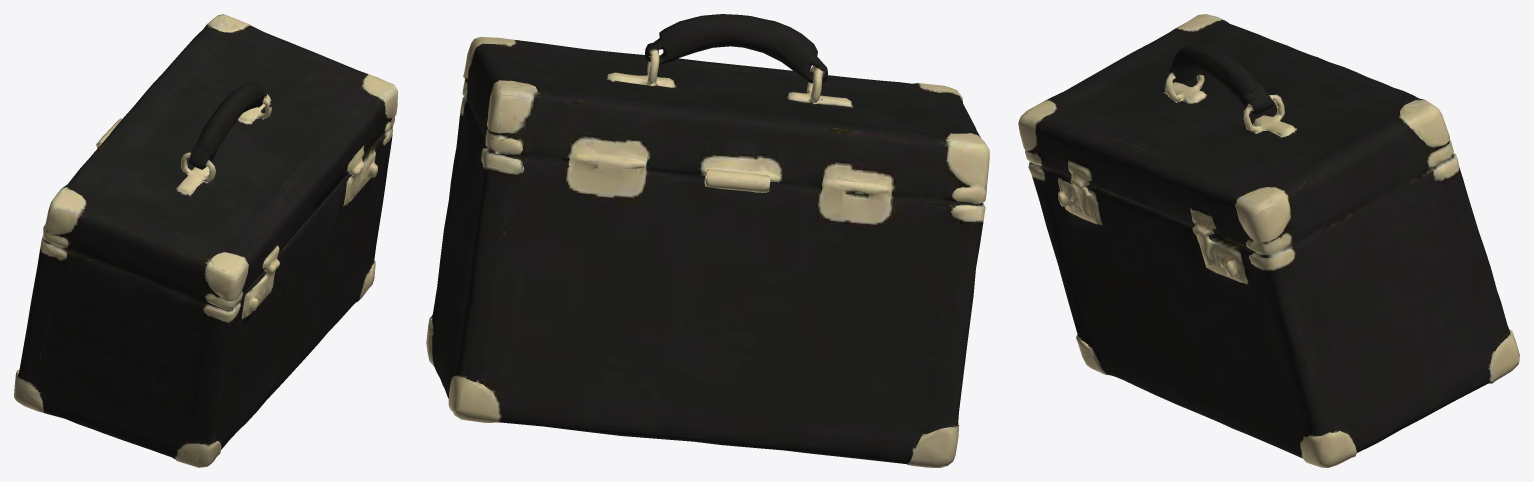
3 views of the same model, side by side, from view 1: azimuth 30°, elevation 25°; view 2: azimuth 150°, elevation 25°; view 3: azimuth 270°, elevation 25° (orthographic). The views are drawn at different scales.
Size of the model in its own units: 0.8955 by 0.7068 by 0.882.
Materials: 1 (1 with a texture image).
